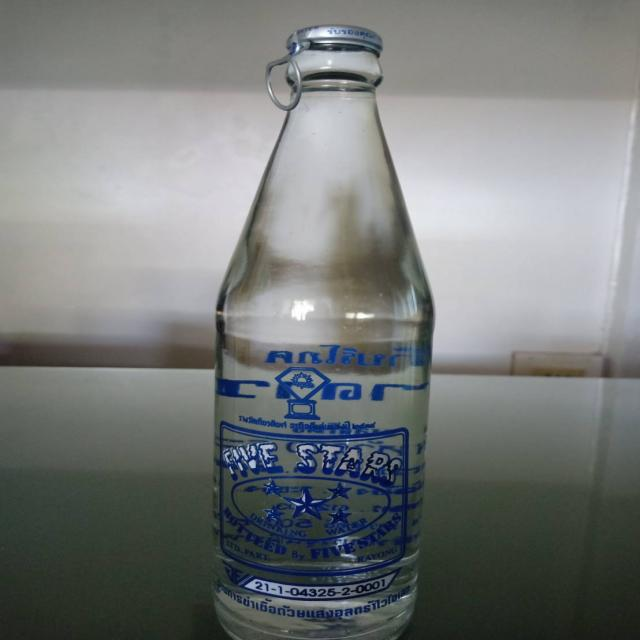glass-bottle: (195, 15, 456, 640)
